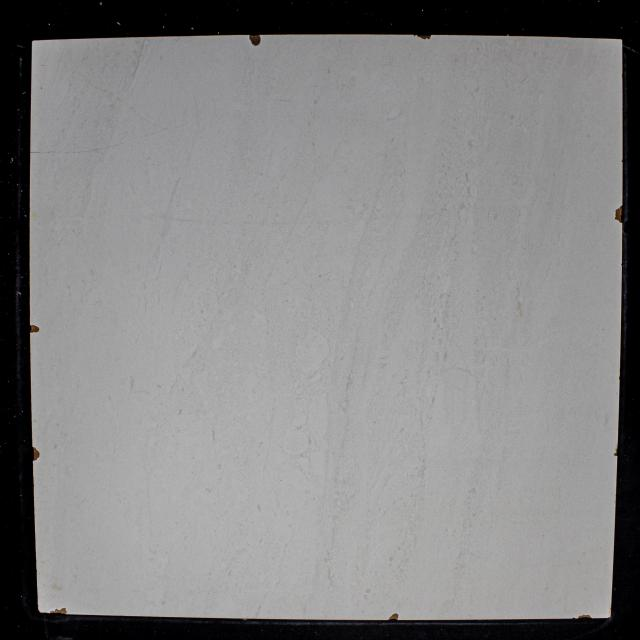edge-chipping: (614, 205, 622, 223), (249, 34, 261, 46), (32, 446, 40, 462), (49, 608, 68, 614), (29, 324, 40, 334), (416, 34, 431, 40), (578, 614, 592, 620), (388, 614, 399, 620), (613, 448, 619, 456)
line: (29, 147, 104, 154)
